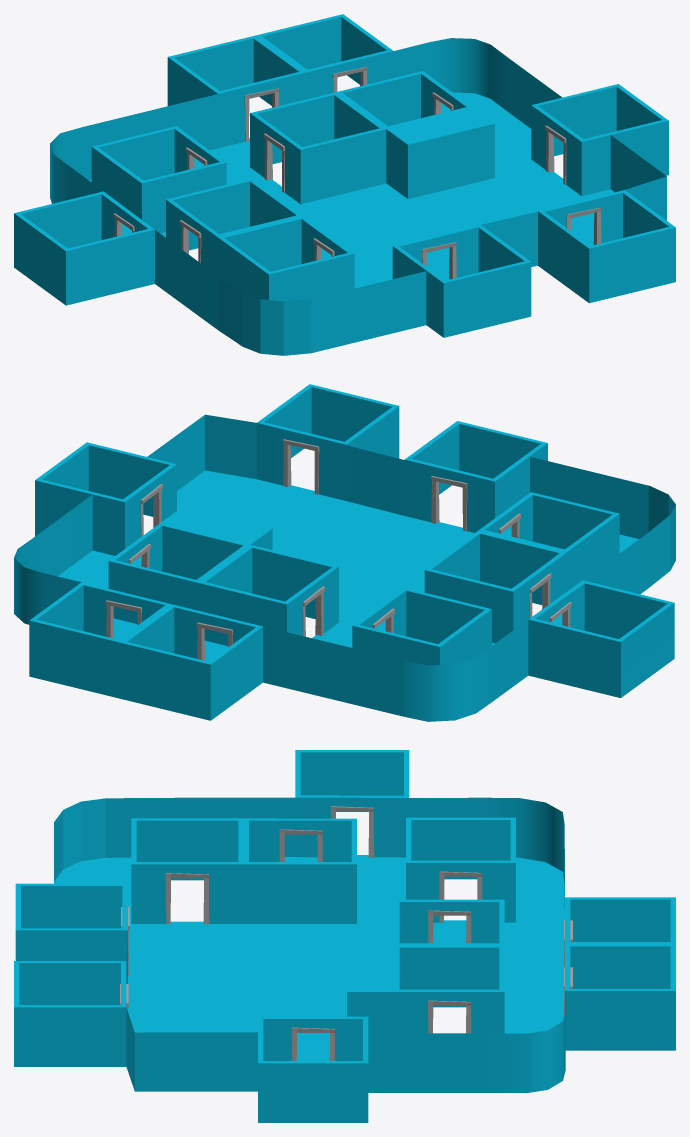
The model's file is testmap.fbx.
3 views of the same model, one above another, from view 1: azimuth 30°, elevation 25°; view 2: azimuth 150°, elevation 25°; view 3: azimuth 270°, elevation 25° (orthographic). The views are drawn at different scales.
Visible parts, largest first — view 1: pPlane2, pCube19, pCube14; view 2: pPlane2, pCube21, pCube11, pCube14, pCube19, pCube12, pCube13; view 3: pPlane2, pCube18, pCube14, pCube17.
Part boxes in pixels (left/top/right/bottom): pPlane2: left=14, top=14, right=675, bottom=355; pCube19: left=545, top=125, right=566, bottom=184; pCube14: left=263, top=133, right=284, bottom=192; pPlane2: left=14, top=384, right=675, bottom=721; pCube21: left=283, top=439, right=319, bottom=494; pCube11: left=431, top=476, right=467, bottom=531; pCube14: left=302, top=586, right=324, bottom=636; pCube19: left=140, top=484, right=162, bottom=536; pCube12: left=196, top=622, right=232, bottom=660; pCube13: left=105, top=600, right=141, bottom=638; pPlane2: left=14, top=750, right=675, bottom=1122; pCube18: left=165, top=873, right=209, bottom=924; pCube14: left=428, top=910, right=471, bottom=943; pCube17: left=279, top=829, right=322, bottom=861.
Size of the model in its own units: 97.03 by 8.9 by 86.65.
